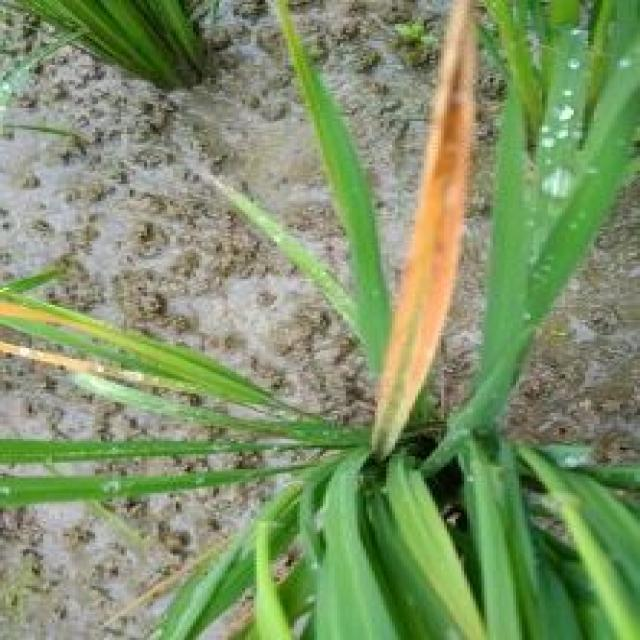Tungro: (341, 3, 509, 454)
